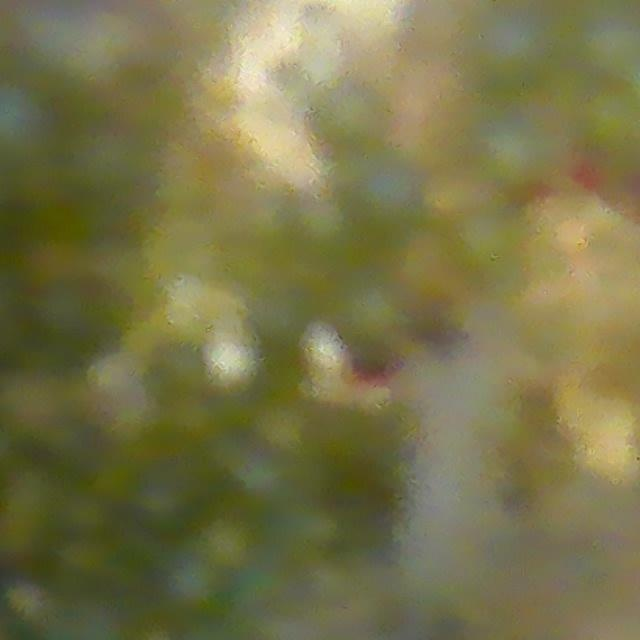SeaGrape: (339, 156, 424, 231), (308, 89, 385, 158), (163, 553, 225, 618), (577, 6, 640, 65), (0, 76, 47, 153), (200, 515, 257, 574), (472, 21, 530, 75)
